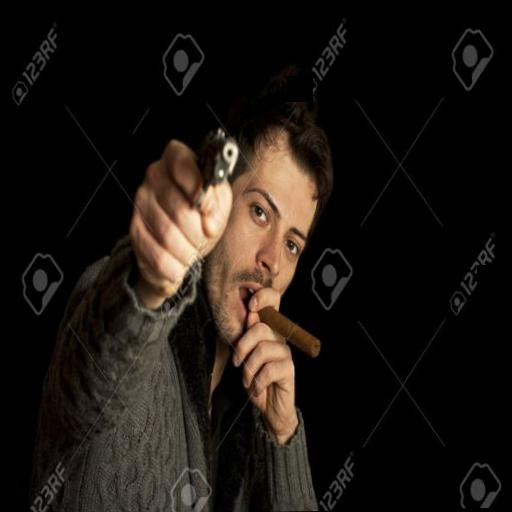Handgun: (182, 122, 240, 212)
